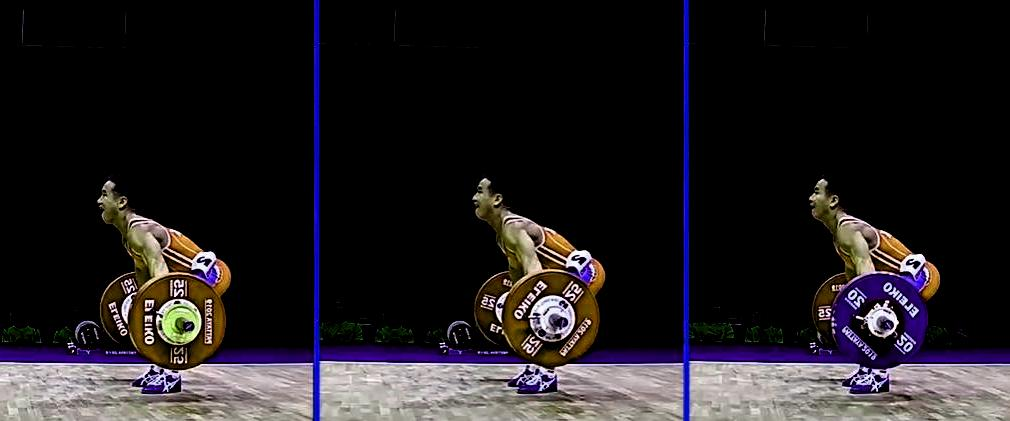Barbell: (177, 317, 197, 339), (876, 317, 895, 337), (552, 316, 568, 333)
